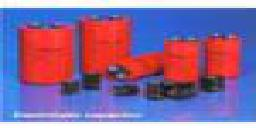Electrolytic-capacitor: (78, 9, 135, 80), (18, 20, 75, 86), (208, 28, 253, 79), (164, 35, 202, 82)
